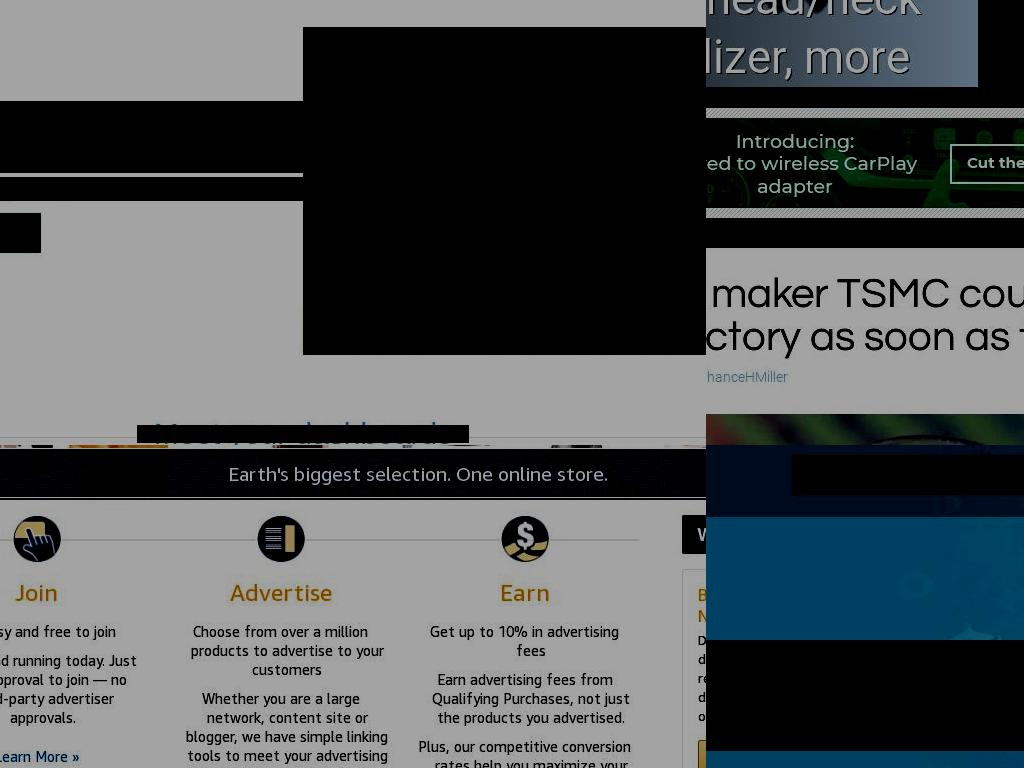button: (706, 413, 1024, 445), (0, 213, 41, 253)
field: (792, 455, 1024, 495)
heading: (706, 640, 1024, 751), (706, 272, 1024, 359), (0, 101, 303, 173)
iframe: (706, 0, 1024, 445), (706, 117, 1024, 208)
image: (303, 27, 706, 355), (0, 448, 706, 498), (706, 0, 999, 108), (706, 413, 1024, 445), (11, 515, 60, 561), (255, 515, 304, 561), (499, 515, 548, 561)
link: (706, 0, 978, 87), (706, 368, 788, 385), (0, 748, 80, 765)
text: (0, 448, 706, 498), (185, 679, 390, 768), (429, 660, 634, 727), (185, 617, 390, 679), (0, 641, 146, 727), (185, 568, 390, 617), (429, 568, 634, 617), (429, 617, 634, 660), (429, 727, 634, 768), (0, 177, 303, 201), (0, 568, 146, 617), (137, 425, 469, 443), (0, 617, 146, 641), (706, 223, 856, 243)
